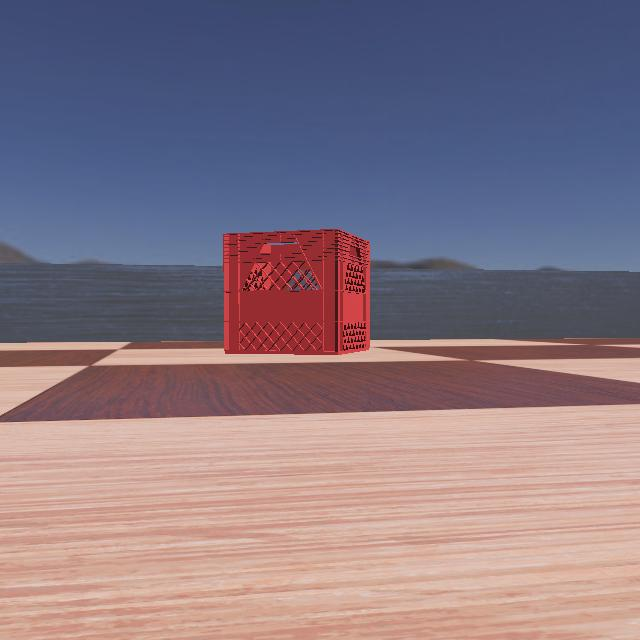plastic-crate: (217, 228, 377, 354)
